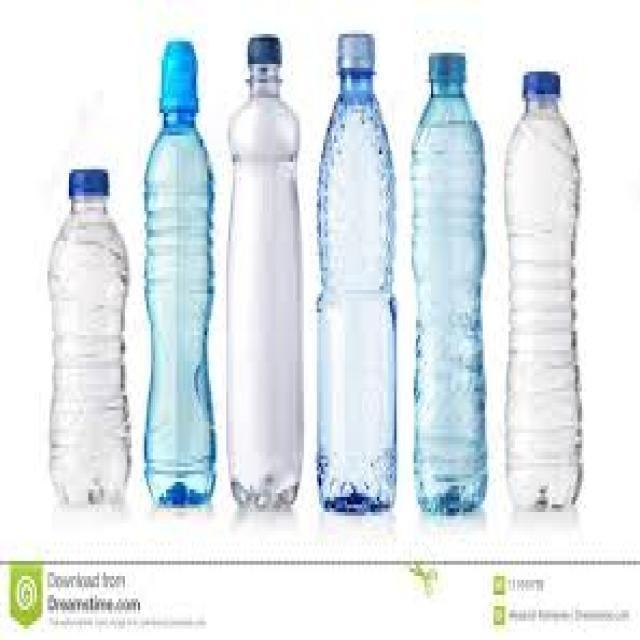Plastic: (313, 26, 397, 518), (410, 50, 488, 516), (142, 34, 216, 506), (228, 34, 302, 503), (506, 64, 580, 508), (50, 158, 131, 509)
